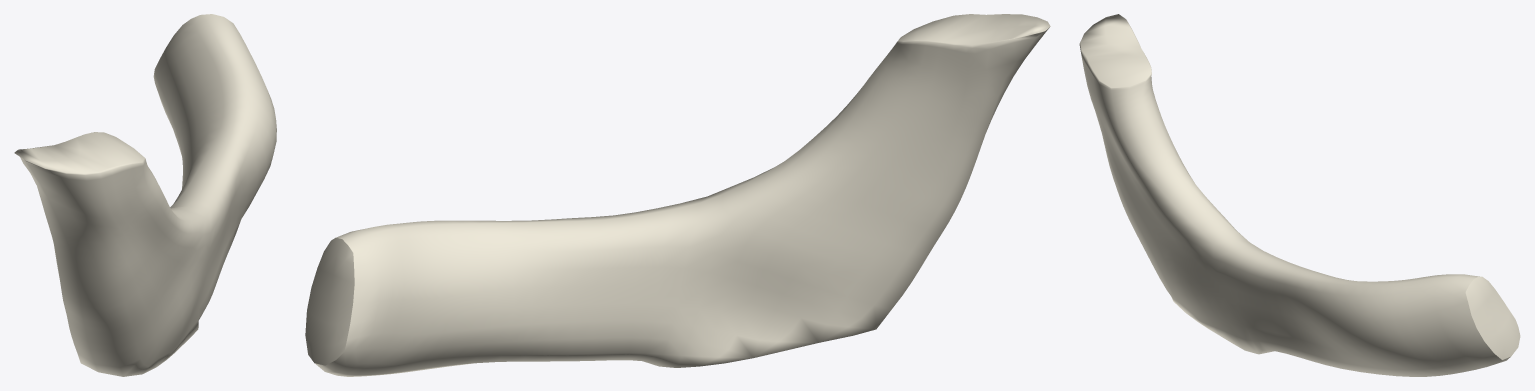
3 views of the same model, side by side, from view 1: azimuth 30°, elevation 25°; view 2: azimuth 150°, elevation 25°; view 3: azimuth 270°, elevation 25° (orthographic). The views are drawn at different scales.
Visible parts, largest first — view 1: ZA_db058d9c11008fe1; view 2: ZA_db058d9c11008fe1; view 3: ZA_db058d9c11008fe1.
Part boxes in pixels (x1,y1,x2,y2): ZA_db058d9c11008fe1: (14,14,276,376); ZA_db058d9c11008fe1: (305,14,1050,376); ZA_db058d9c11008fe1: (1079,14,1520,376).
Bounding box in the file's own units: 0.0619 × 0.0394 × 0.0667.
